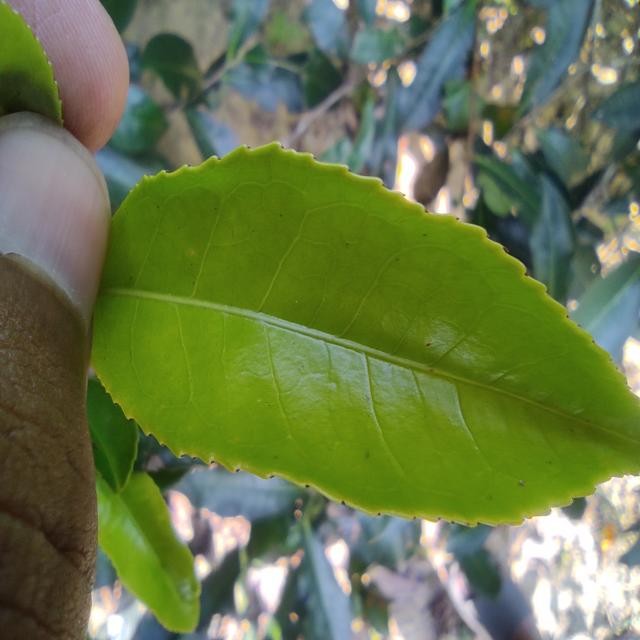Category C(4-7 days): (72, 117, 640, 542)
